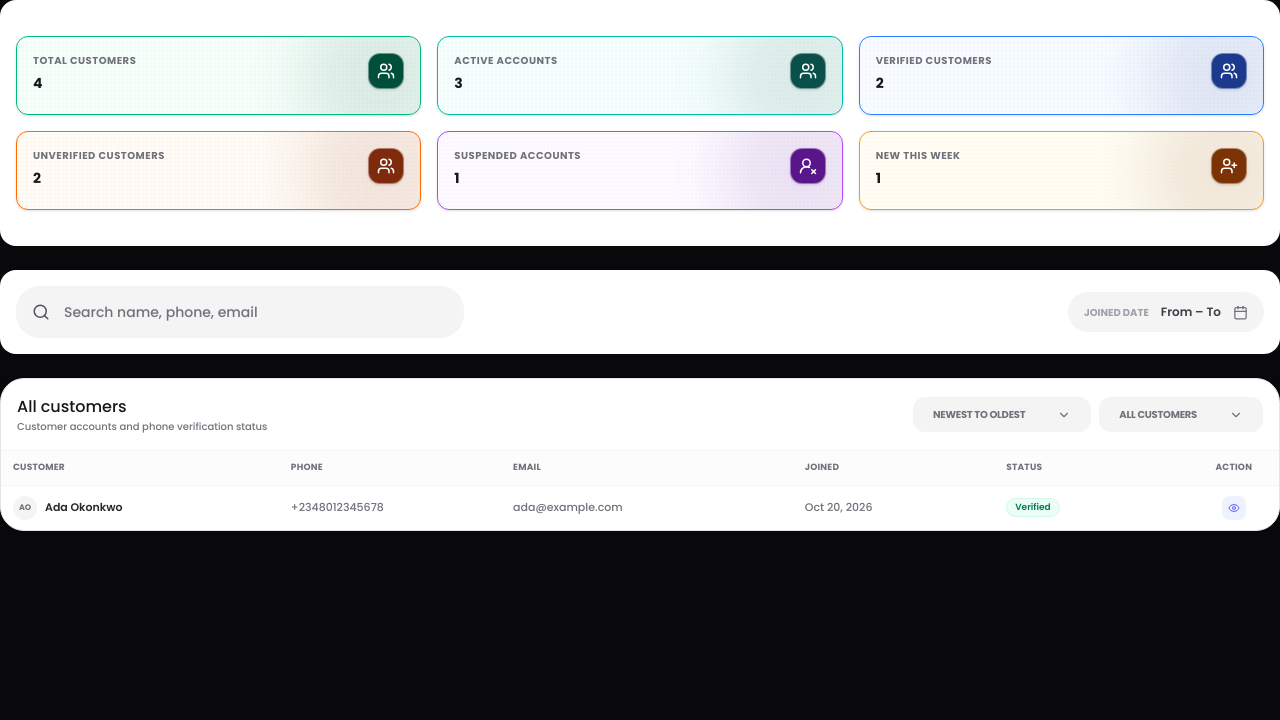
it: Super Admin customers › lists each referral reward and the withdrawal that explains the wallet balance
Expected: the text "Ada Okonkwo" is shown, [45,499,122,516]
Click the button named "View Ada Okonkwo" at (1234, 508), box [1222,496,1246,520]
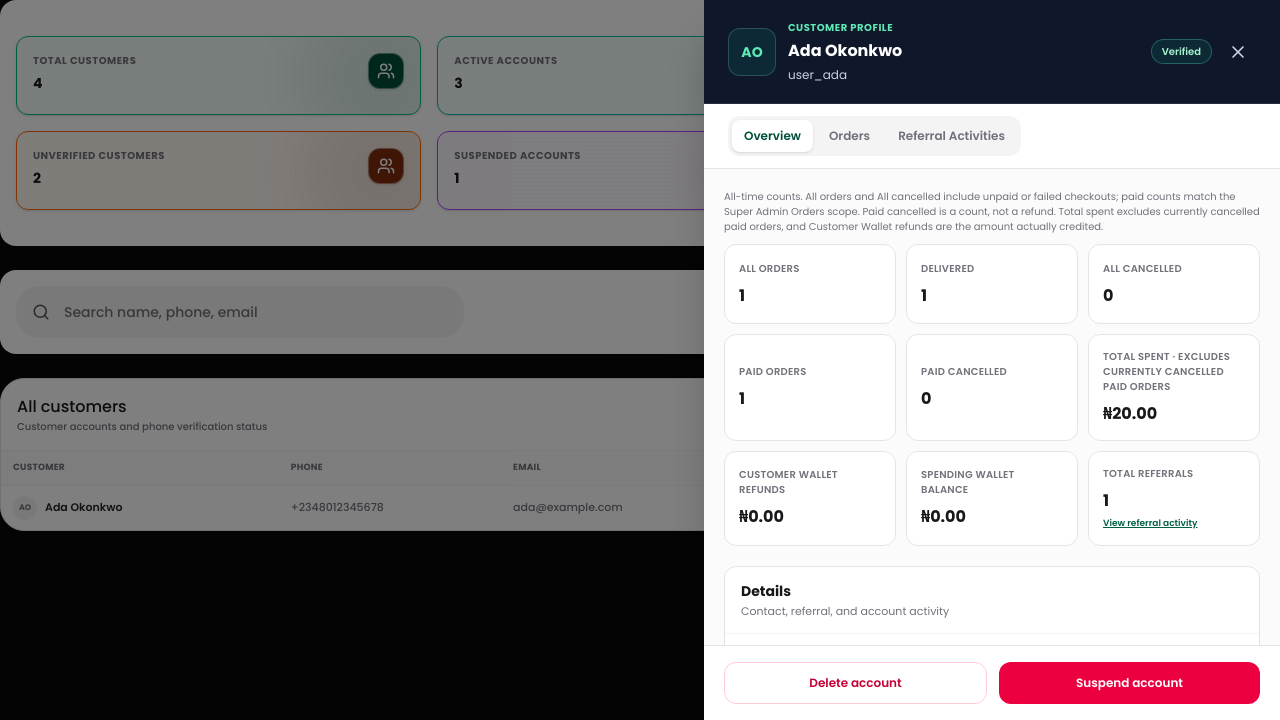
Click the button "Referral Activities" at (952, 136), box [886,120,1017,152]
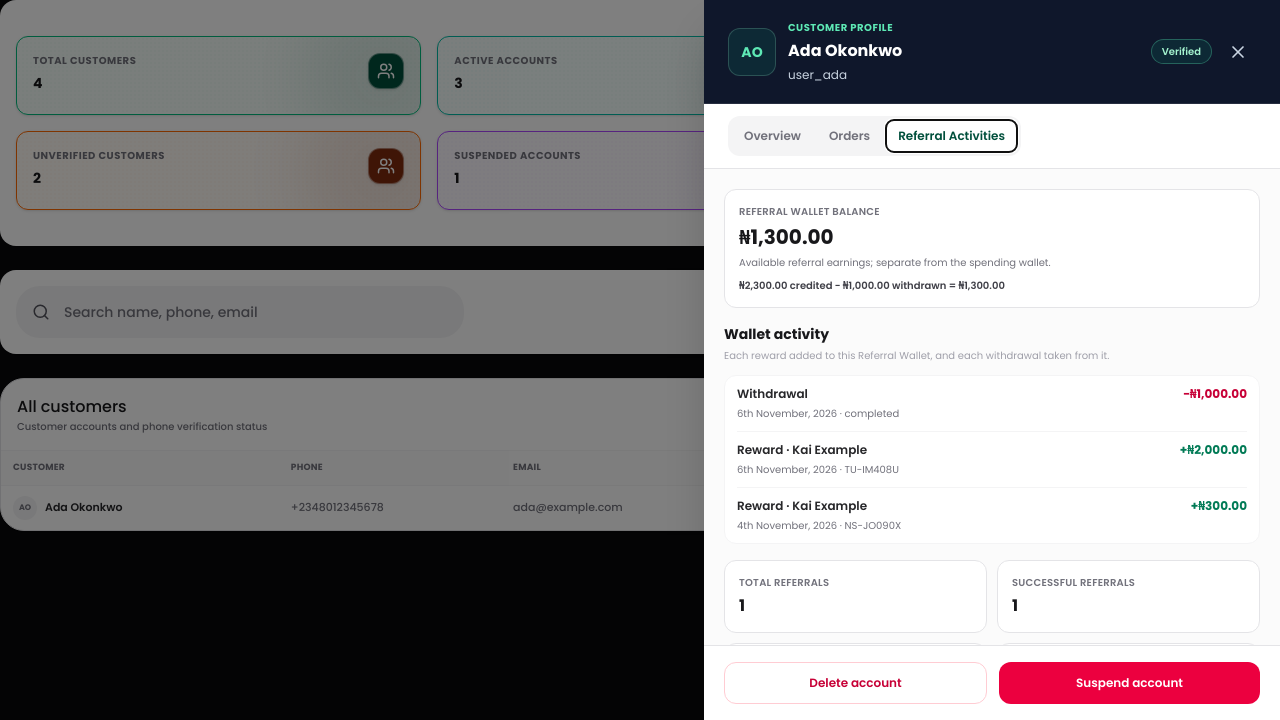
Now the text "₦2,300.00 credited − ₦1,000.00 withdrawn = ₦1,300.00" is shown, box [739,278,1005,293]
Now the heading "Wallet activity" is shown, box [724,324,829,344]
Now the text "+₦2,000.00" is shown, box [1180,442,1247,458]
